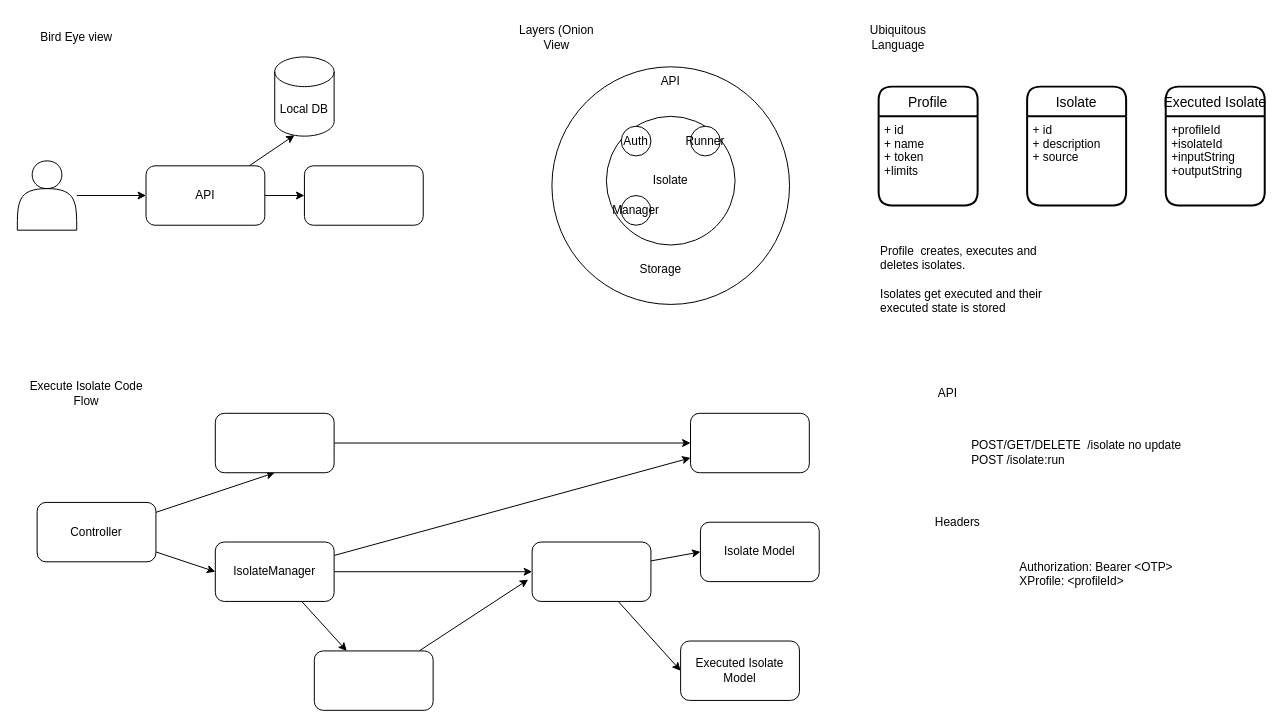
This 1284x728 diagram has some shape labels left out. Here are the shapes that lost their labels. From the top down, the centre of each, then its label:
At (x=46, y=195): "User".
At (x=363, y=195): "Isolates Runner".
At (x=274, y=442): "Authenticatior".
At (x=749, y=442): "Profile Model".
At (x=591, y=571): "Isolate Repository".
At (x=373, y=680): "Isolate Runner".
